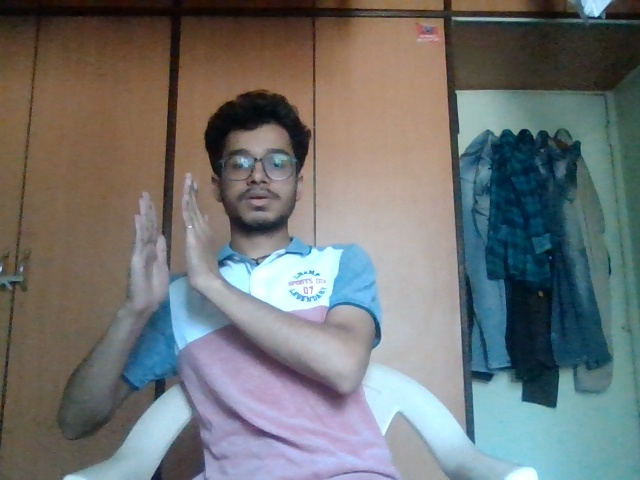morning: (122, 164, 225, 315)
